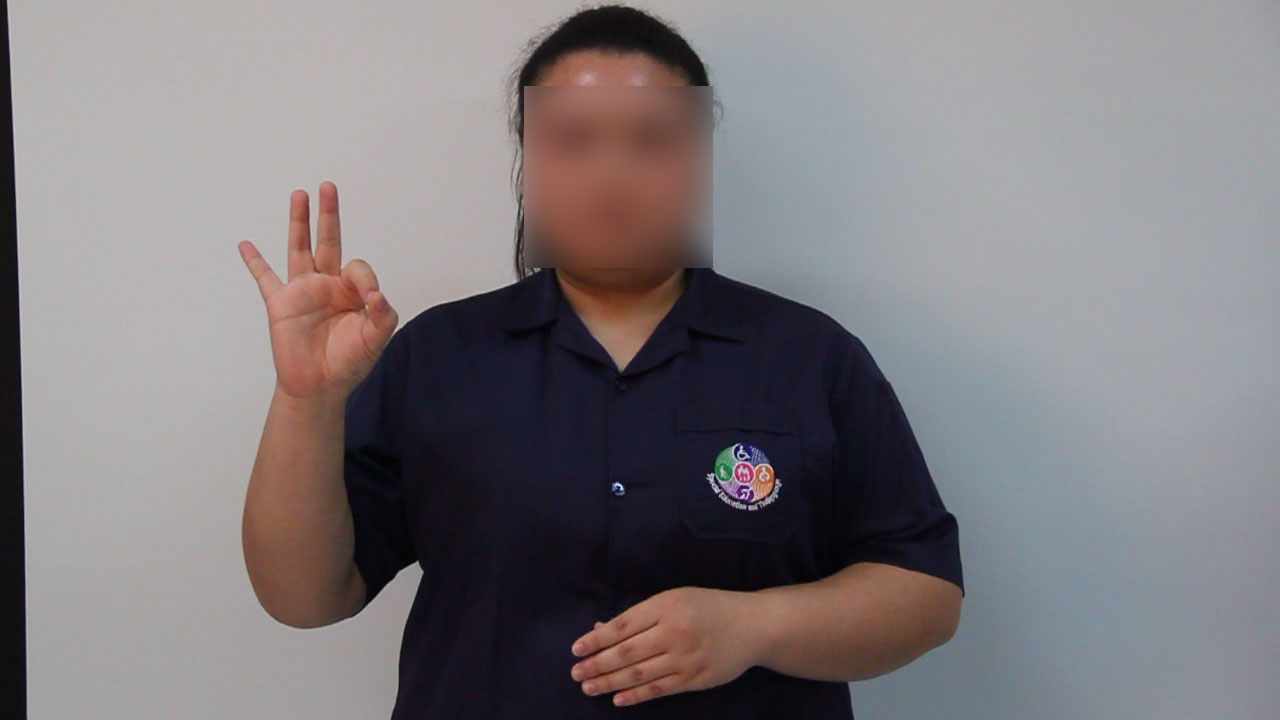for: (229, 172, 405, 408)
